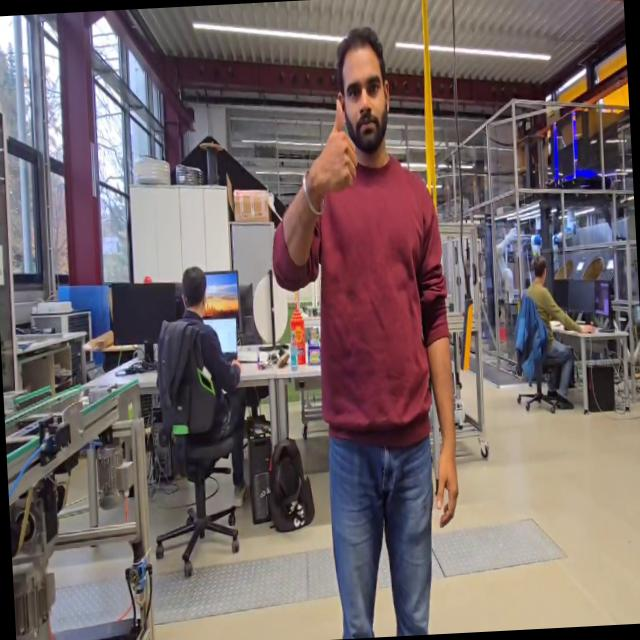thumbs_up: (308, 90, 362, 202)
